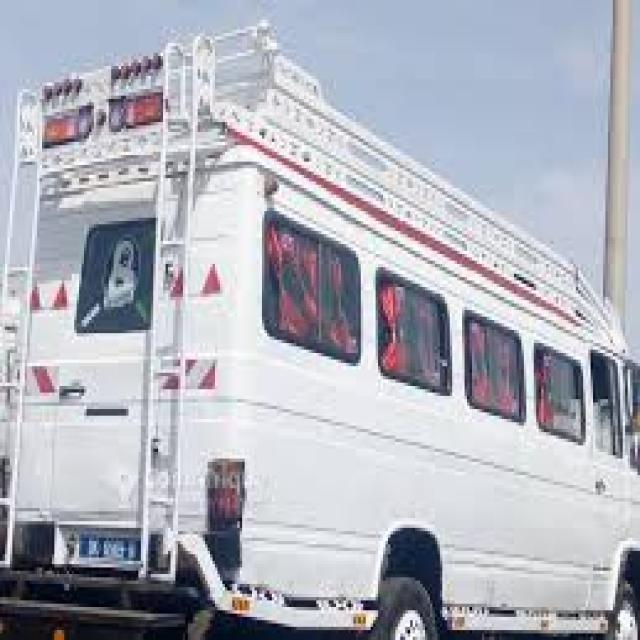ndiaga ndiaye: (1, 26, 640, 635)
